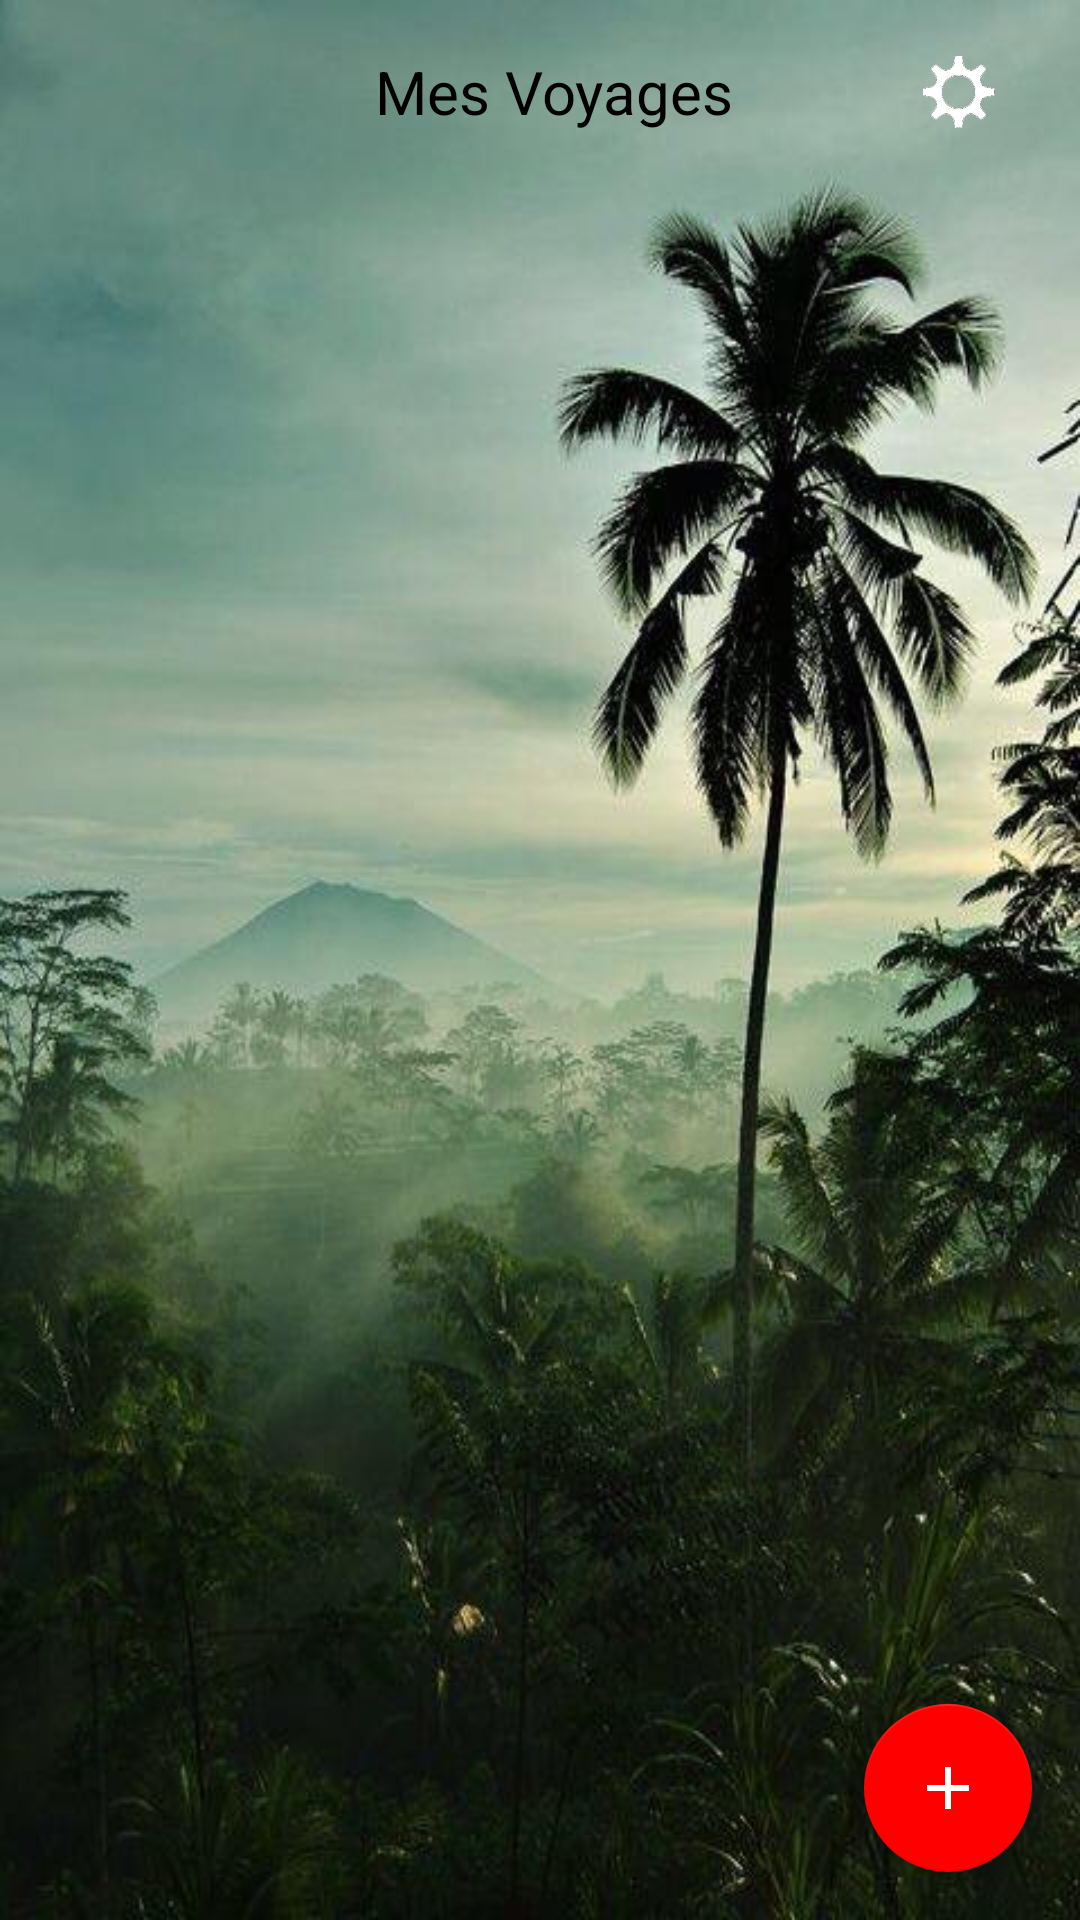

Named icons in this screenshot (1080px×1920px) and their bounding boxes, {"x1": x1, "y1": y1, "x2": x2, "y2": y2}:
add: {"x1": 864, "y1": 1704, "x2": 1032, "y2": 1872}
settings: {"x1": 923, "y1": 56, "x2": 995, "y2": 128}
